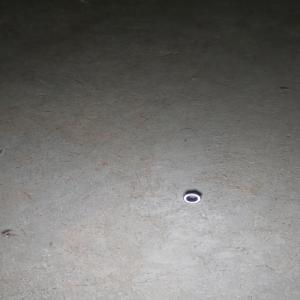Nut: (182, 192, 202, 204)
